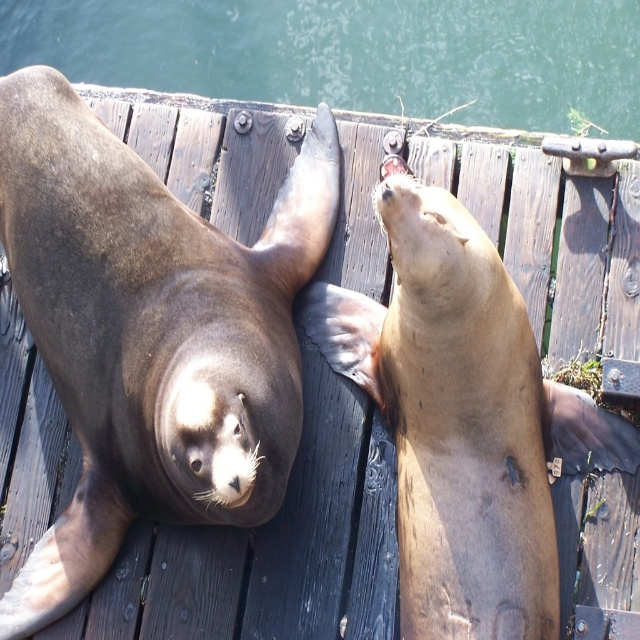Sea lion: (0, 63, 343, 639), (293, 153, 639, 637)
